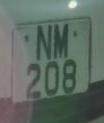0: (42, 59, 63, 97)
2: (23, 60, 44, 102)
8: (59, 58, 80, 95)
M: (51, 21, 74, 60)
N: (33, 21, 54, 65)
